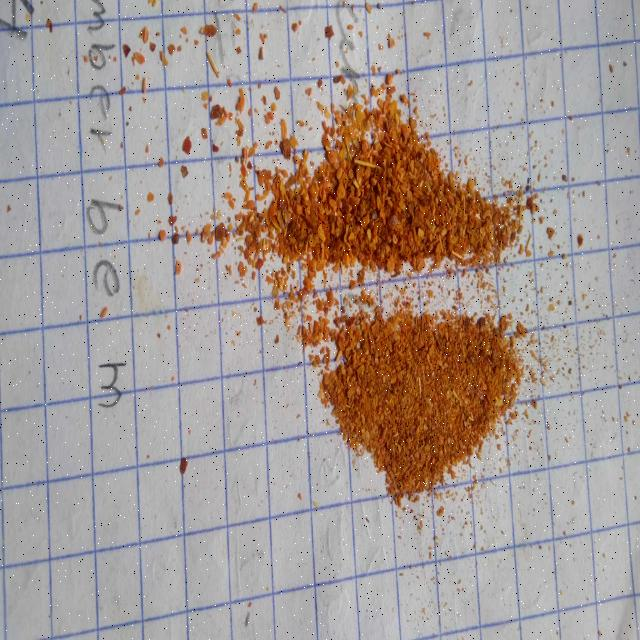Chili Powder: (195, 22, 569, 286), (253, 314, 563, 537)
